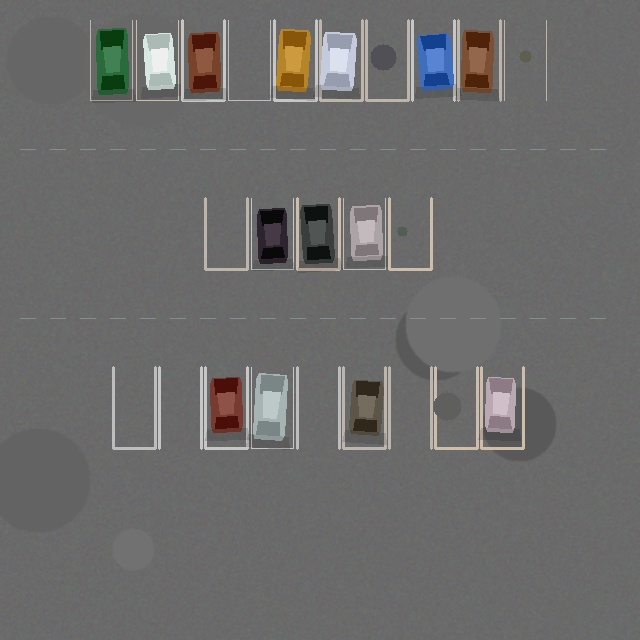space-empty: (113, 367, 155, 448), (159, 367, 201, 448), (297, 367, 339, 448), (389, 367, 431, 448), (435, 367, 477, 448), (228, 20, 270, 100), (366, 20, 408, 100), (504, 20, 546, 100), (205, 198, 247, 269), (389, 198, 431, 269)
space-occupied: (205, 367, 247, 448), (251, 367, 293, 448), (343, 367, 385, 448), (481, 367, 523, 448), (90, 20, 132, 100), (136, 20, 178, 100), (182, 20, 224, 100), (274, 20, 316, 100), (320, 20, 362, 100), (412, 20, 454, 100), (458, 20, 500, 100), (251, 198, 293, 269), (297, 198, 339, 269), (343, 198, 385, 269)
